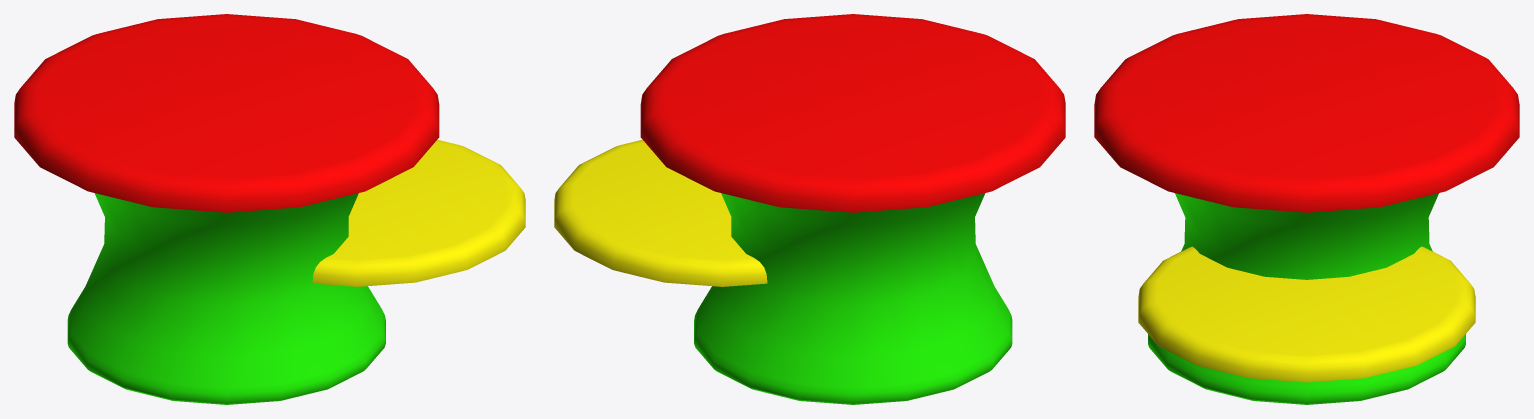
File: umgebung_jimmy_roy_wohnzimmertisch.FBX
3 renders of one model, left to right at view 1: azimuth 30°, elevation 25°; view 2: azimuth 150°, elevation 25°; view 3: azimuth 270°, elevation 25°, orthographic.
Parts seen in each view (by area): view 1: o_jimmy_tischplatte_low, o_jimmy_tischbein_low, o_roy_tischplatte_low; view 2: o_jimmy_tischplatte_low, o_jimmy_tischbein_low, o_roy_tischplatte_low; view 3: o_jimmy_tischplatte_low, o_roy_tischplatte_low, o_jimmy_tischbein_low.
Part boxes in pixels (<box>): o_jimmy_tischplatte_low: <box>14,14,439,212</box>; o_jimmy_tischbein_low: <box>67,193,385,404</box>; o_roy_tischplatte_low: <box>312,139,525,286</box>; o_jimmy_tischplatte_low: <box>640,14,1065,212</box>; o_jimmy_tischbein_low: <box>694,193,1012,404</box>; o_roy_tischplatte_low: <box>554,139,767,286</box>; o_jimmy_tischplatte_low: <box>1094,14,1519,212</box>; o_roy_tischplatte_low: <box>1138,246,1475,382</box>; o_jimmy_tischbein_low: <box>1148,193,1465,404</box>.
Bounding box in the file's own units: 287 × 227 × 143.
